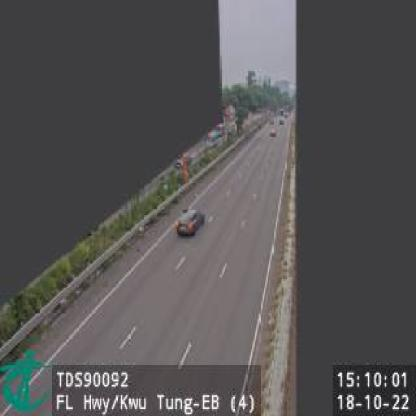Car: (174, 205, 204, 236), (269, 128, 277, 137)
